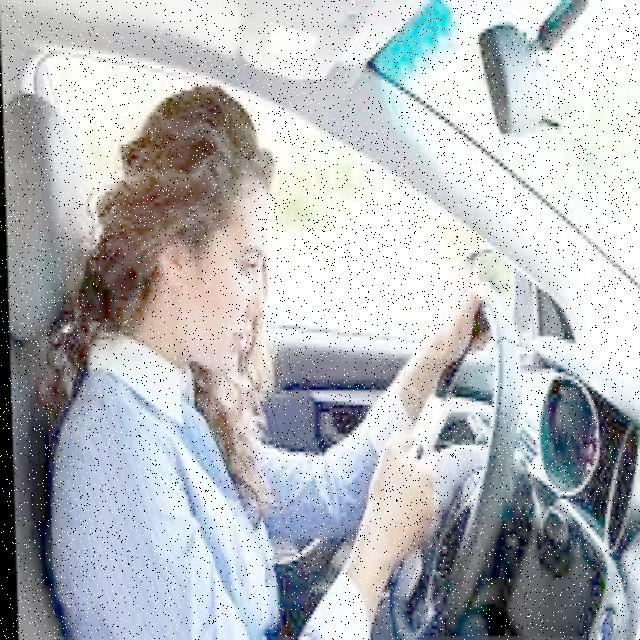noSeatbelt: (51, 350, 272, 640)
